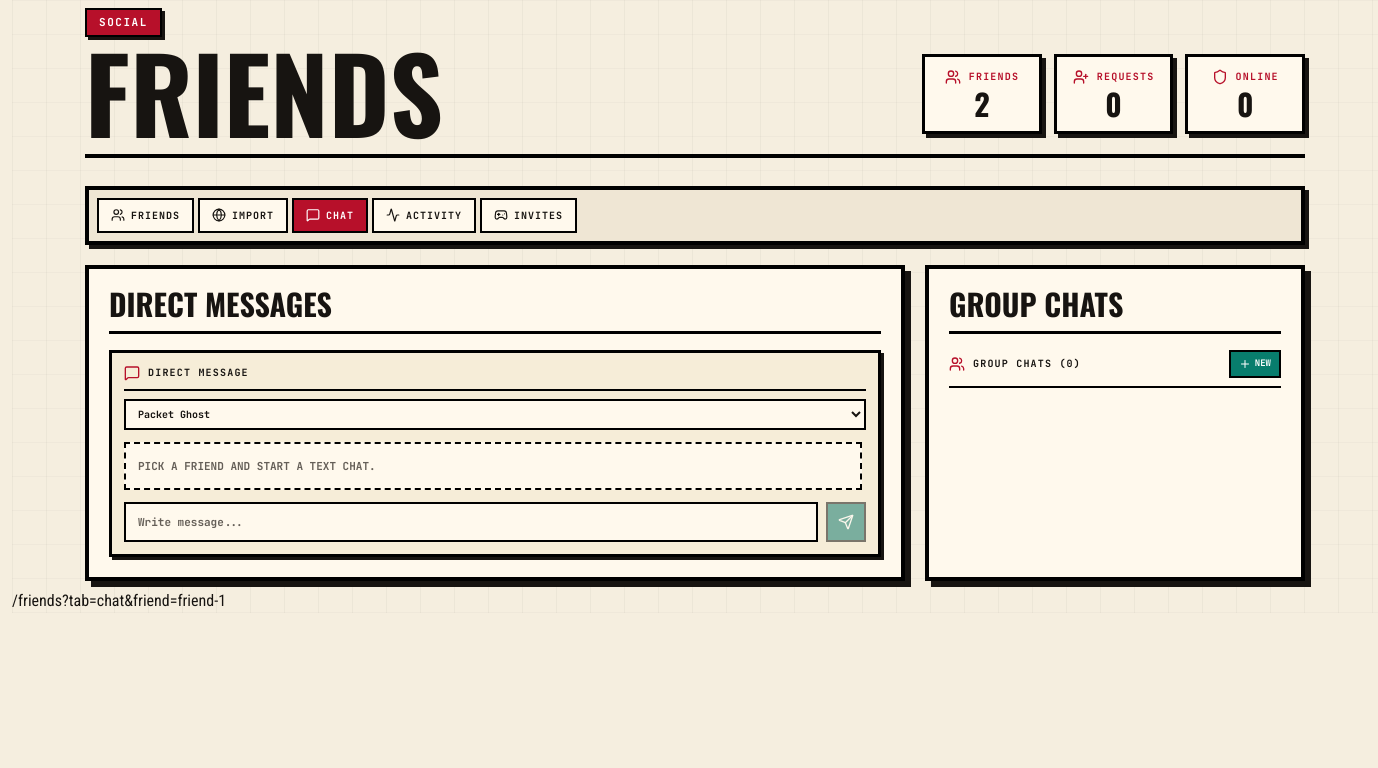
Test: FriendsPage › updates the friend deep-link when the user selects a different chat
Select "Silent Node" in the dropdown at (495, 414), box 124,399 -> 866,430
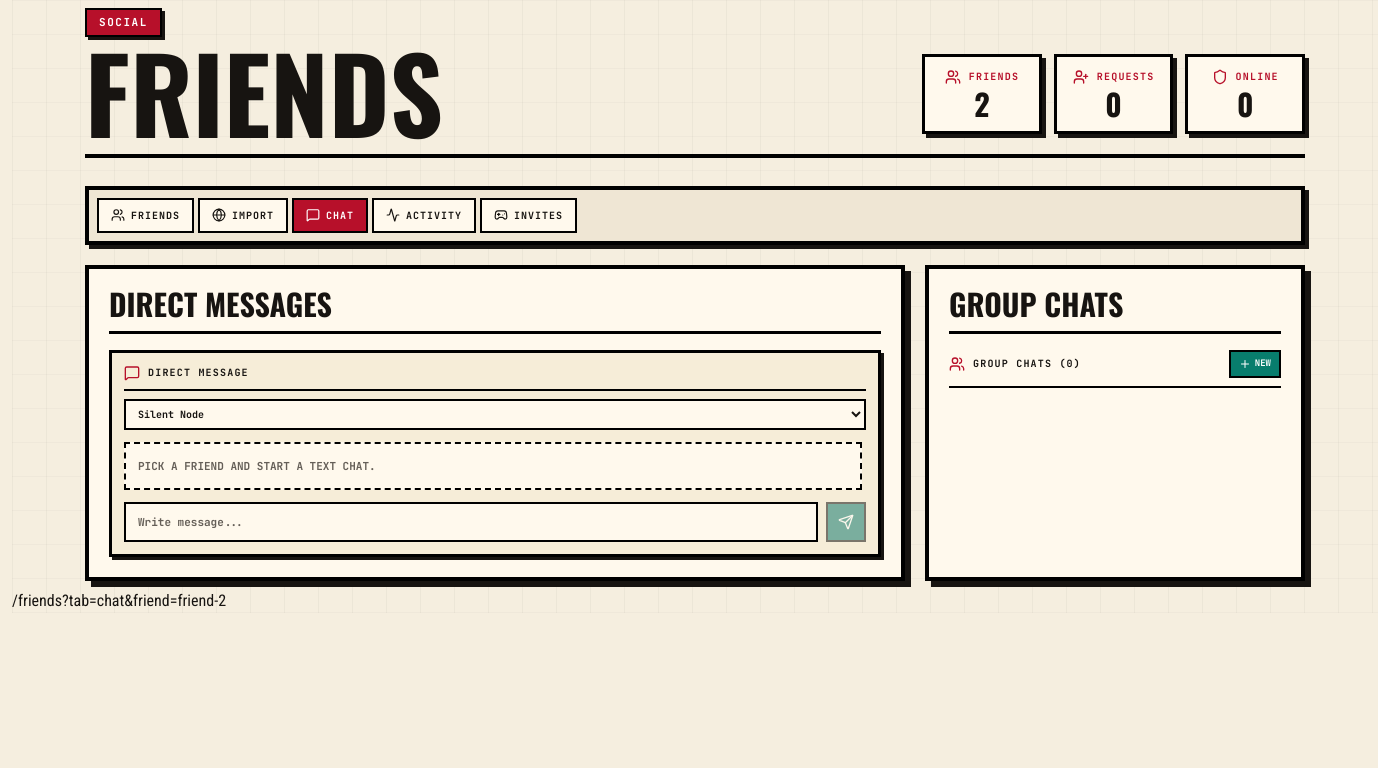
Result: the text with test id "friends-location" reads "/friends?tab=chat&friend=friend-2" at 12,591 -> 226,610
